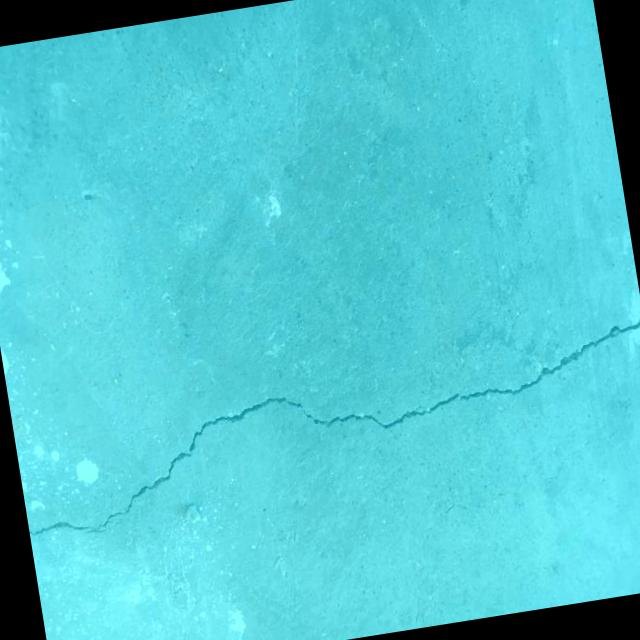crack: (11, 316, 640, 543)
